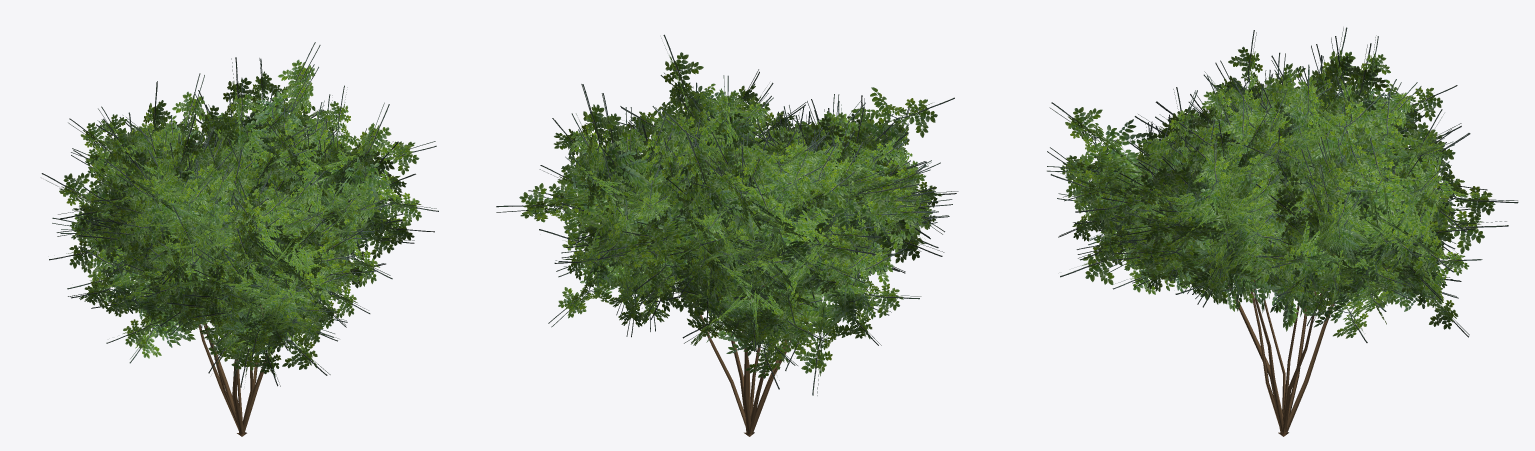
Rendered from underplanting-v3.glb.
3 views of the same model, side by side, from view 1: azimuth 30°, elevation 25°; view 2: azimuth 150°, elevation 25°; view 3: azimuth 270°, elevation 25° (orthographic). The views are drawn at different scales.
Visible parts, largest first — view 1: leaves, branches; view 2: leaves, branches; view 3: leaves, branches.
Part boxes in pixels (x1,y1,x2,y2): leaves: (41, 42, 438, 387); branches: (160, 182, 318, 436); leaves: (496, 34, 958, 395); branches: (621, 174, 821, 436); leaves: (1047, 27, 1518, 342); branches: (1140, 169, 1388, 436).
Bounding box in the file's own units: 0.8798 × 0.78 × 0.909.
2 materials, 2 textured.
